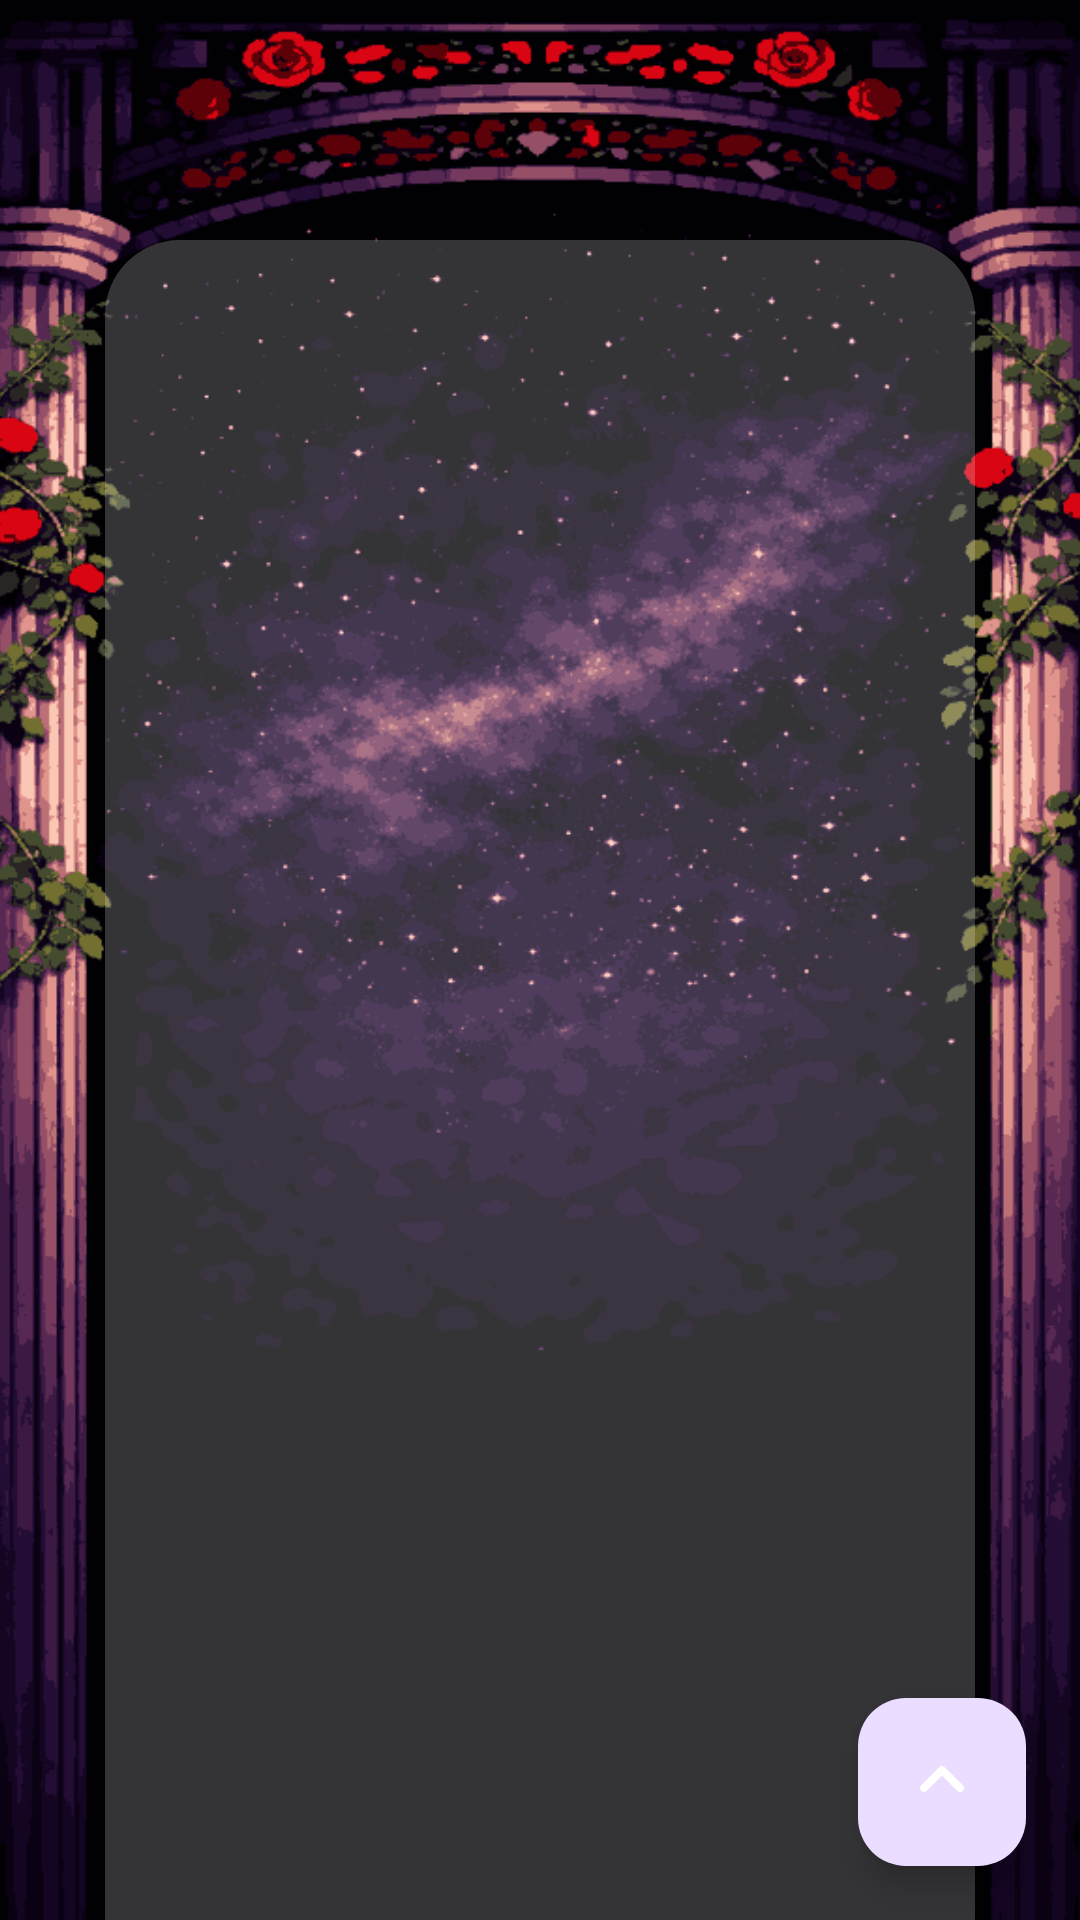

Screen size 1080 x 1920. Icon name, then its center in pixels as (x,y):
arrow up: (942,1782)
